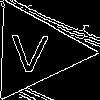V: (9, 26, 49, 73)
